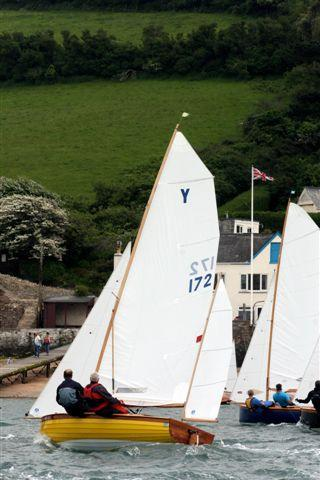Ship: (35, 124, 224, 453), (242, 192, 320, 434)
